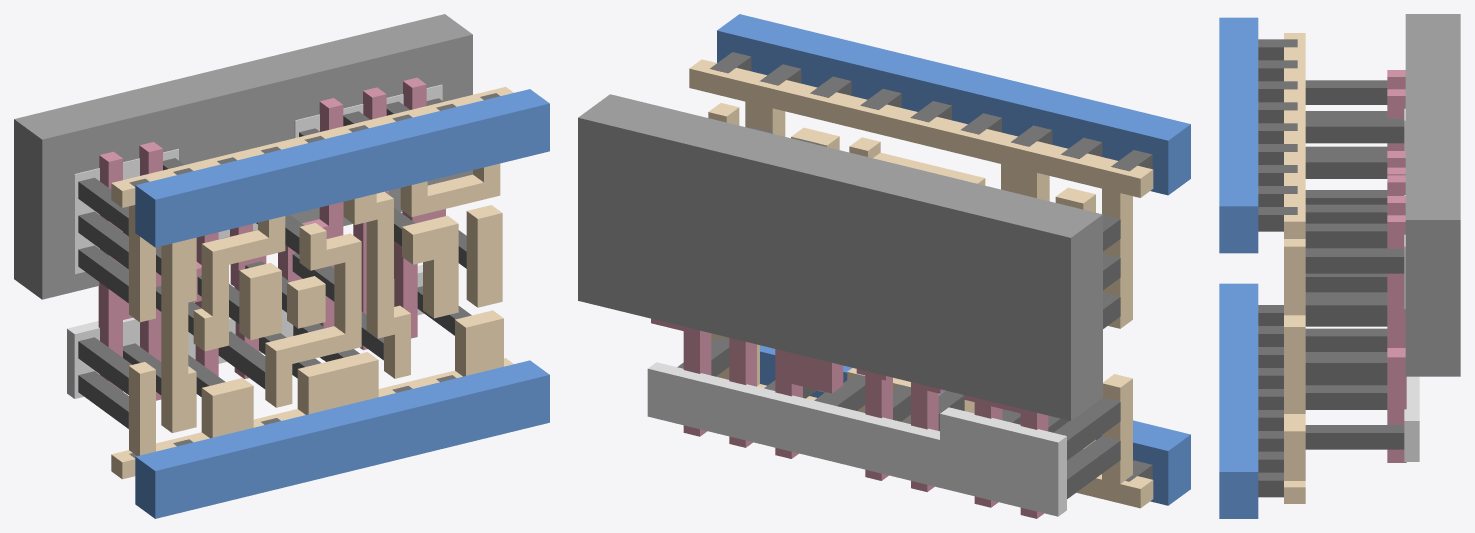
The model's file is sky130_fd_sc_hd__a2bb2o_2.gds.gltf.
3 renders of one model, left to right at view 1: azimuth 30°, elevation 25°; view 2: azimuth 150°, elevation 25°; view 3: azimuth 270°, elevation 25°, orthographic. The views are drawn at different scales.
Parts seen in each view (by area): view 1: sky130_fd_sc_hd__a2bb2o_2_li1, sky130_fd_sc_hd__a2bb2o_2_met1, sky130_fd_sc_hd__a2bb2o_2_nwell, sky130_fd_sc_hd__a2bb2o_2_licon, sky130_fd_sc_hd__a2bb2o_2_poly, sky130_fd_sc_hd__a2bb2o_2_diff, sky130_fd_sc_hd__a2bb2o_2_mcon; view 2: sky130_fd_sc_hd__a2bb2o_2_nwell, sky130_fd_sc_hd__a2bb2o_2_met1, sky130_fd_sc_hd__a2bb2o_2_diff, sky130_fd_sc_hd__a2bb2o_2_li1, sky130_fd_sc_hd__a2bb2o_2_poly, sky130_fd_sc_hd__a2bb2o_2_licon, sky130_fd_sc_hd__a2bb2o_2_mcon; view 3: sky130_fd_sc_hd__a2bb2o_2_licon, sky130_fd_sc_hd__a2bb2o_2_nwell, sky130_fd_sc_hd__a2bb2o_2_met1, sky130_fd_sc_hd__a2bb2o_2_mcon, sky130_fd_sc_hd__a2bb2o_2_li1, sky130_fd_sc_hd__a2bb2o_2_poly, sky130_fd_sc_hd__a2bb2o_2_diff.
Part boxes in pixels (x1,y1,x2,y2): sky130_fd_sc_hd__a2bb2o_2_li1: (111,86,513,479); sky130_fd_sc_hd__a2bb2o_2_met1: (135,89,549,518); sky130_fd_sc_hd__a2bb2o_2_nwell: (14,14,472,299); sky130_fd_sc_hd__a2bb2o_2_licon: (78,98,471,428); sky130_fd_sc_hd__a2bb2o_2_poly: (98,77,445,400); sky130_fd_sc_hd__a2bb2o_2_diff: (67,84,442,398); sky130_fd_sc_hd__a2bb2o_2_mcon: (129,93,500,457); sky130_fd_sc_hd__a2bb2o_2_nwell: (578,94,1102,420); sky130_fd_sc_hd__a2bb2o_2_met1: (717,14,1190,505); sky130_fd_sc_hd__a2bb2o_2_diff: (647,362,1066,516); sky130_fd_sc_hd__a2bb2o_2_li1: (689,59,1153,508); sky130_fd_sc_hd__a2bb2o_2_poly: (651,318,1048,518); sky130_fd_sc_hd__a2bb2o_2_licon: (677,127,1120,498); sky130_fd_sc_hd__a2bb2o_2_mcon: (710,52,1152,481); sky130_fd_sc_hd__a2bb2o_2_licon: (1305,80,1404,449); sky130_fd_sc_hd__a2bb2o_2_nwell: (1405,14,1460,376); sky130_fd_sc_hd__a2bb2o_2_met1: (1219,17,1258,518); sky130_fd_sc_hd__a2bb2o_2_mcon: (1258,39,1297,497); sky130_fd_sc_hd__a2bb2o_2_li1: (1284,33,1305,503); sky130_fd_sc_hd__a2bb2o_2_poly: (1387,70,1406,462); sky130_fd_sc_hd__a2bb2o_2_diff: (1404,108,1419,461).
Bounding box in the file's own units: 4.52 × 3.2 × 2.24.
